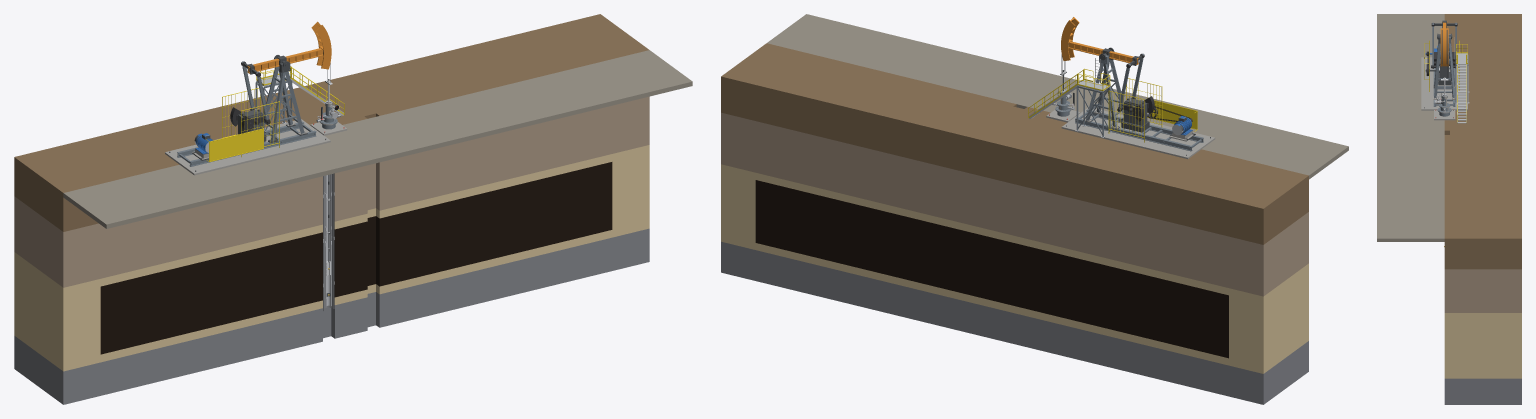
Rendered from bagehetwin.glb.
3 renders of one model, left to right at view 1: azimuth 30°, elevation 25°; view 2: azimuth 150°, elevation 25°; view 3: azimuth 270°, elevation 25°, orthographic. The views are drawn at different scales.
Visible parts, largest first — view 1: Heavy_Oil_Zone, Formation_Caprock, Formation_Topsoil, Ground_Pad, Formation_Basement, Reservoir_Layer, Base_Platform, Guards, Support_Frame, Casing, Walking_Beam, Wellhead; view 2: Formation_Topsoil, Formation_Caprock, Heavy_Oil_Zone, Formation_Basement, Ground_Pad, Reservoir_Layer, Base_Platform, Guards, Support_Frame, Maintenance_Platform, Handrails, Walking_Beam; view 3: Formation_Topsoil, Ground_Pad, Reservoir_Layer, Formation_Caprock, Formation_Basement, Base_Platform, Support_Frame, Access_Stairs, Wellhead, Horsehead, Maintenance_Platform, Handrails (+1 smaller).
Part boxes in pixels (bbox=[...]): Heavy_Oil_Zone: bbox=[100, 162, 612, 354]; Formation_Caprock: bbox=[14, 96, 649, 287]; Formation_Topsoil: bbox=[14, 14, 648, 231]; Ground_Pad: bbox=[63, 50, 692, 228]; Formation_Basement: bbox=[14, 228, 649, 404]; Reservoir_Layer: bbox=[14, 145, 649, 371]; Base_Platform: bbox=[165, 119, 330, 175]; Guards: bbox=[206, 88, 279, 161]; Support_Frame: bbox=[264, 55, 304, 140]; Casing: bbox=[323, 173, 334, 311]; Walking_Beam: bbox=[247, 48, 323, 74]; Wellhead: bbox=[310, 100, 347, 135]; Formation_Topsoil: bbox=[721, 43, 1308, 244]; Formation_Caprock: bbox=[721, 112, 1308, 296]; Heavy_Oil_Zone: bbox=[755, 180, 1228, 358]; Formation_Basement: bbox=[721, 241, 1308, 404]; Ground_Pad: bbox=[767, 14, 1348, 179]; Reservoir_Layer: bbox=[721, 164, 1308, 373]; Base_Platform: bbox=[1061, 108, 1215, 159]; Guards: bbox=[1108, 78, 1197, 142]; Support_Frame: bbox=[1086, 47, 1123, 127]; Maintenance_Platform: bbox=[1075, 80, 1111, 137]; Handrails: bbox=[1028, 68, 1110, 118]; Walking_Beam: bbox=[1068, 41, 1138, 65]; Formation_Topsoil: bbox=[1444, 14, 1521, 269]; Ground_Pad: bbox=[1377, 14, 1444, 241]; Reservoir_Layer: bbox=[1444, 313, 1521, 378]; Formation_Caprock: bbox=[1444, 269, 1521, 312]; Formation_Basement: bbox=[1444, 378, 1521, 404]; Base_Platform: bbox=[1421, 57, 1467, 110]; Support_Frame: bbox=[1434, 33, 1455, 97]; Access_Stairs: bbox=[1457, 64, 1466, 123]; Wellhead: bbox=[1434, 94, 1455, 120]; Horsehead: bbox=[1440, 28, 1448, 66]; Maintenance_Platform: bbox=[1455, 53, 1469, 103]; Handrails: bbox=[1456, 44, 1467, 122].
Size of the model in its own units: 55 by 28.6 by 15.
